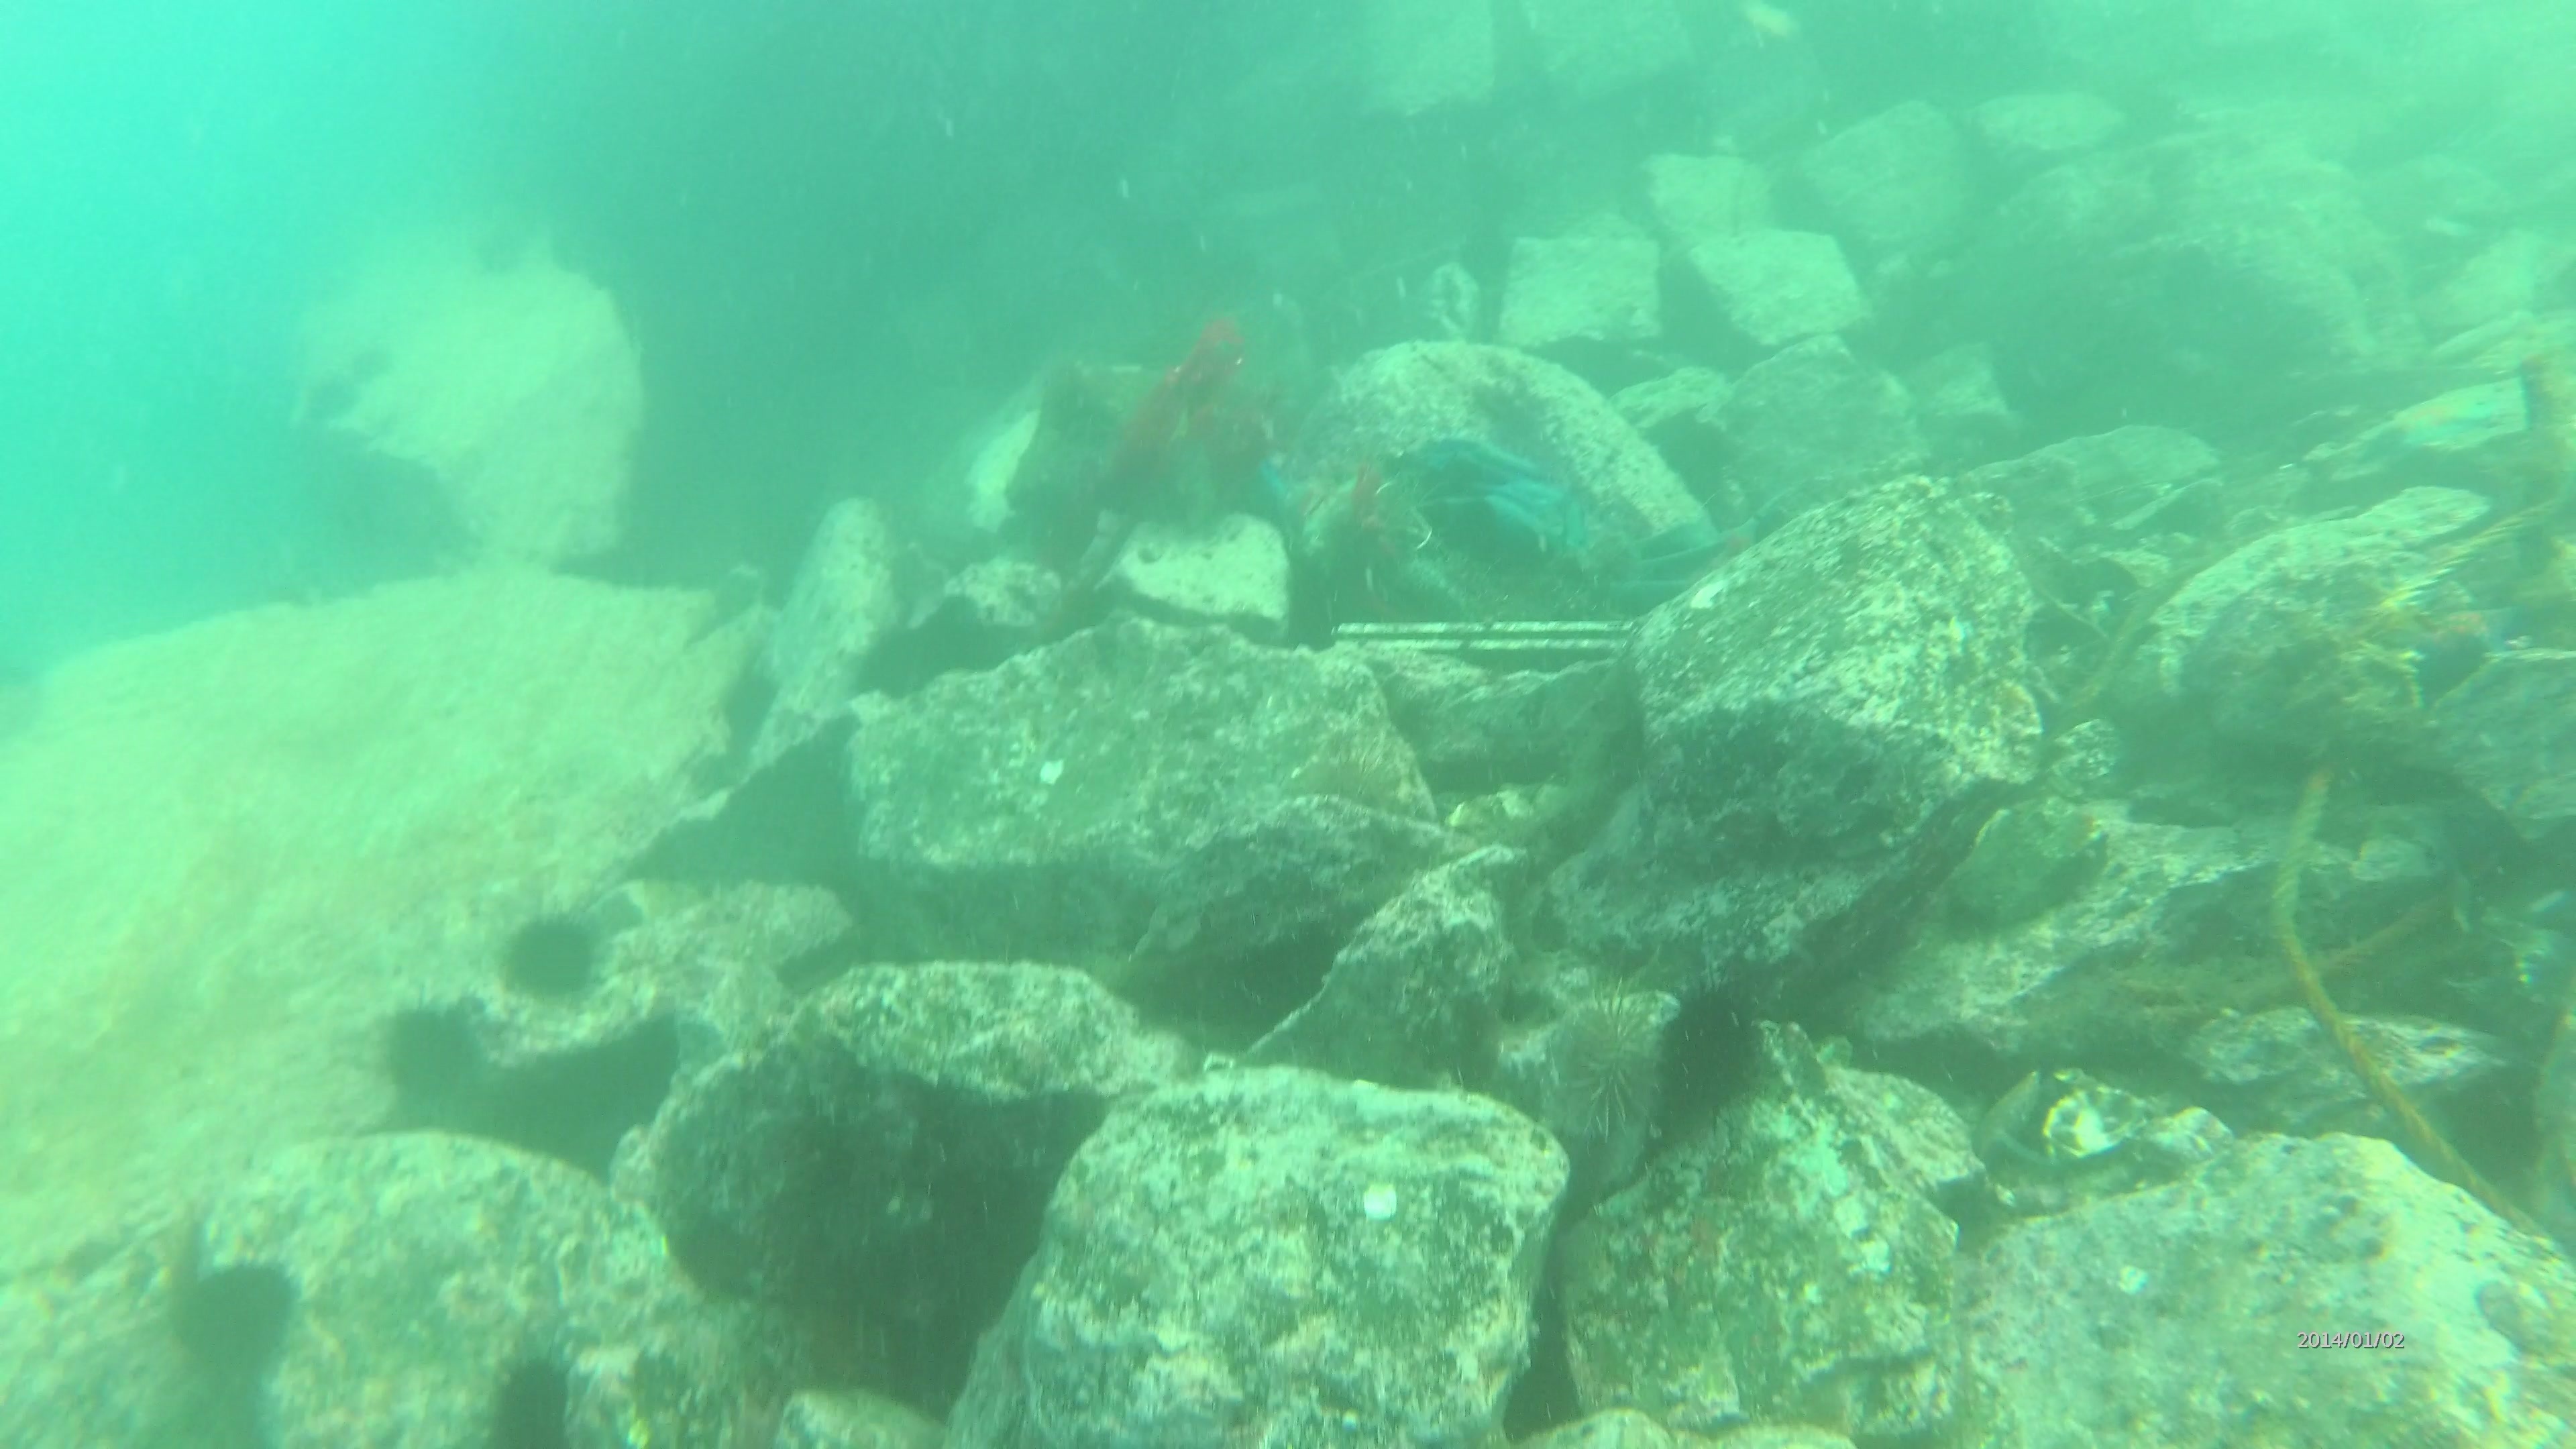echinus: (1552, 977, 1674, 1122), (1668, 975, 1767, 1116), (172, 1261, 299, 1371), (373, 994, 492, 1102), (499, 899, 605, 1000), (490, 1348, 586, 1449), (297, 377, 364, 425), (341, 341, 409, 387), (471, 228, 538, 274)
starfish: (2396, 577, 2518, 672)
